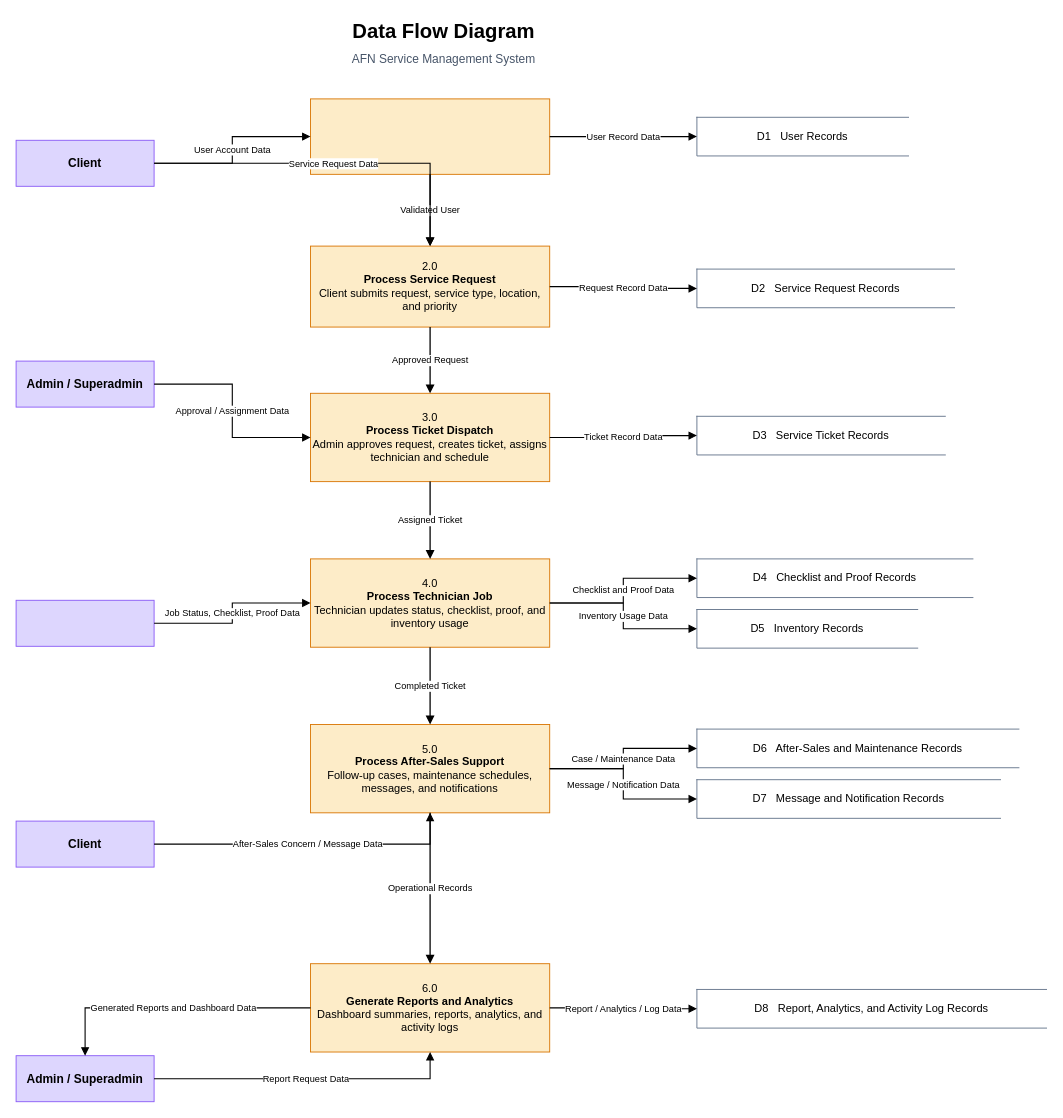
Image size: 1063x1118. Some labels were removed from this diagram. Here are the shapes that lost their labels. From the top down, the centre of each, then its label:
At (x=430, y=136): "1.0 Process User Access Login, role validation, and account access".
At (x=84, y=622): "Technician".
